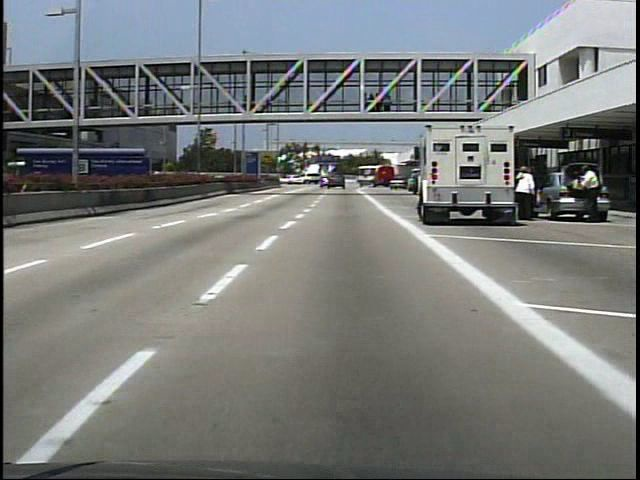person: (578, 162, 605, 227), (512, 160, 536, 224)
